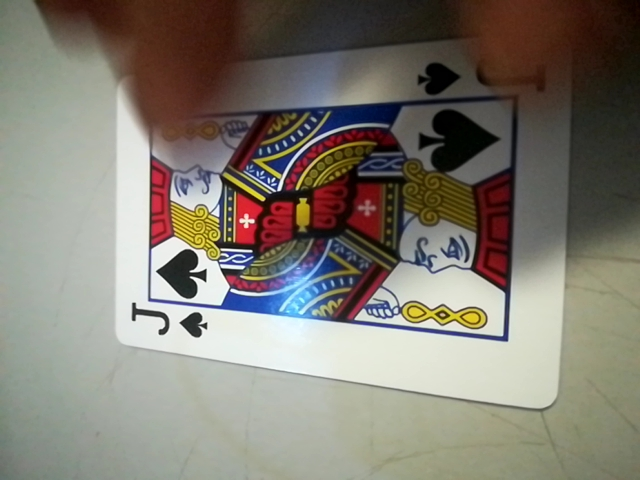ht j: (120, 296, 217, 347)
